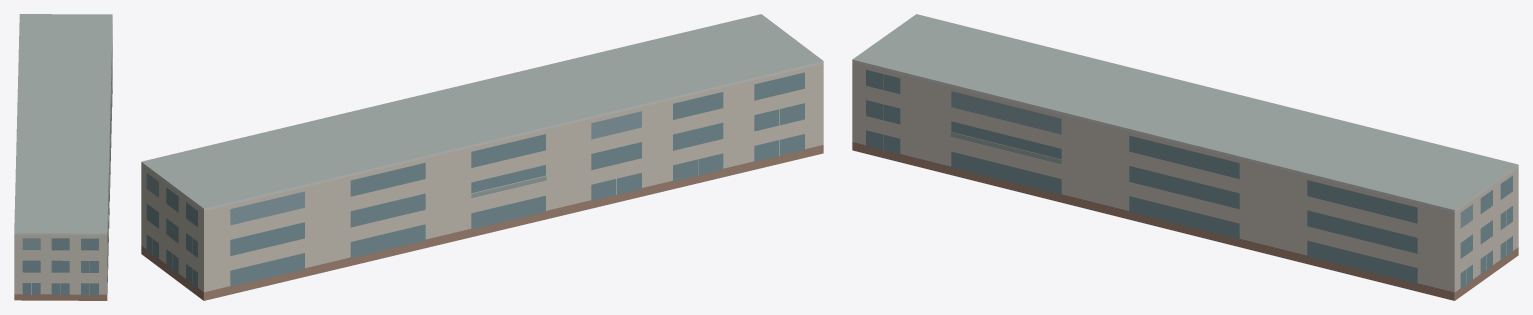
File: survey-upis-32681435.glb
3 views of the same model, side by side, from view 1: azimuth 30°, elevation 25°; view 2: azimuth 150°, elevation 25°; view 3: azimuth 270°, elevation 25° (orthographic). The views are drawn at different scales.
Visible parts, largest first — view 1: survey-upis-32681435.tmp; view 2: survey-upis-32681435.tmp; view 3: survey-upis-32681435.tmp.
Part boxes in pixels (box(x1,y1,x2,y2)): survey-upis-32681435.tmp: box(14, 14, 112, 300); survey-upis-32681435.tmp: box(141, 14, 823, 300); survey-upis-32681435.tmp: box(852, 14, 1518, 300).
Size of the model in its own units: 42.43 by 9.15 by 60.91.
